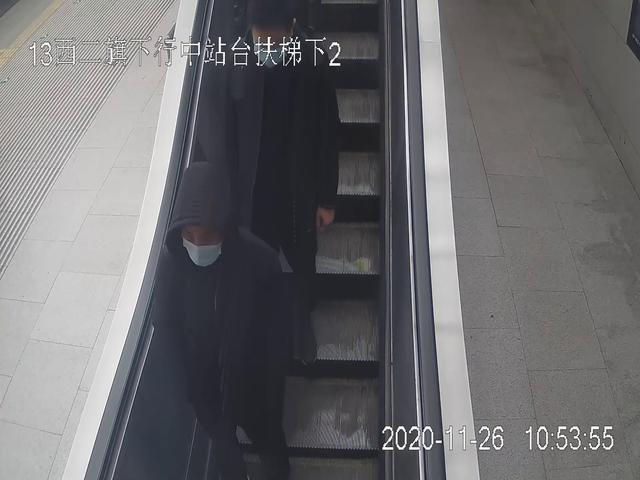person: (218, 1, 340, 368), (150, 162, 288, 480)
